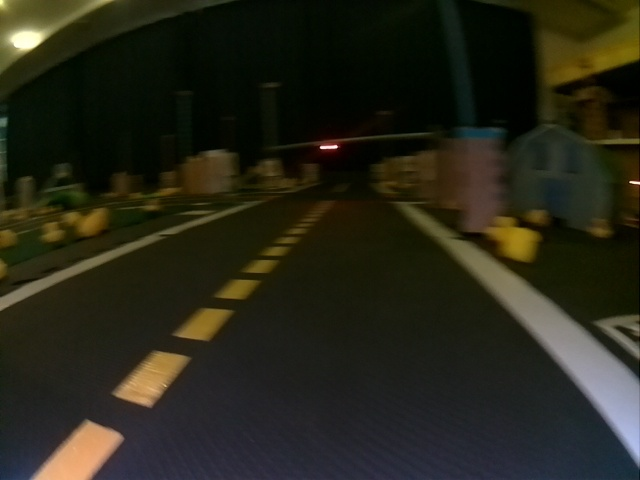Duckie: (502, 227, 538, 260), (75, 207, 107, 237), (41, 221, 67, 242), (526, 207, 549, 224)
QR code: (596, 314, 638, 354)
